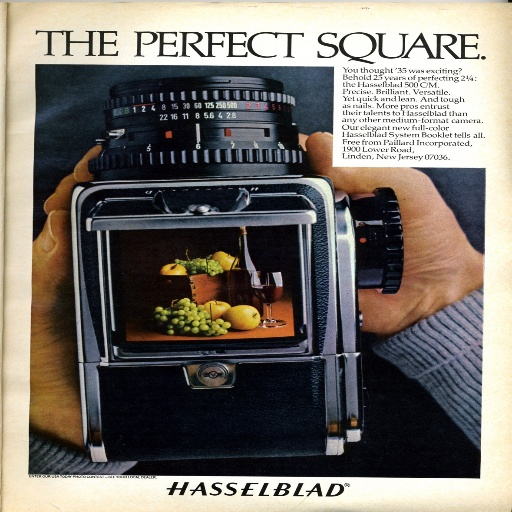hand: (299, 128, 482, 337), (31, 208, 85, 449)
